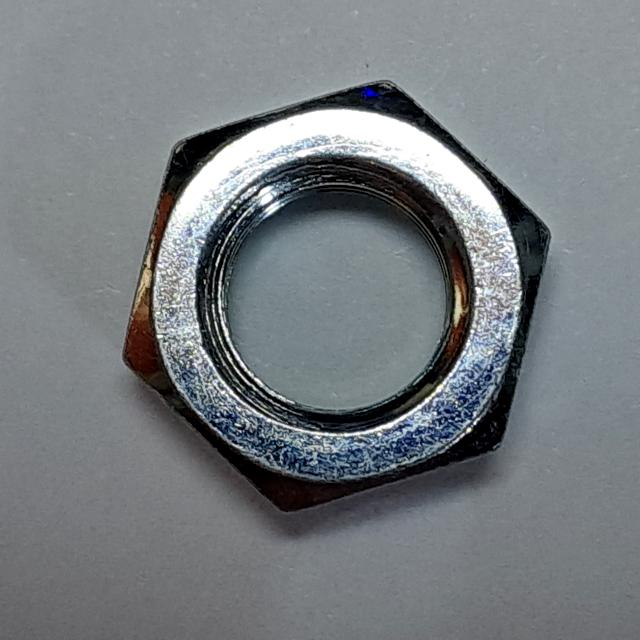Excellent: (102, 62, 567, 531)
